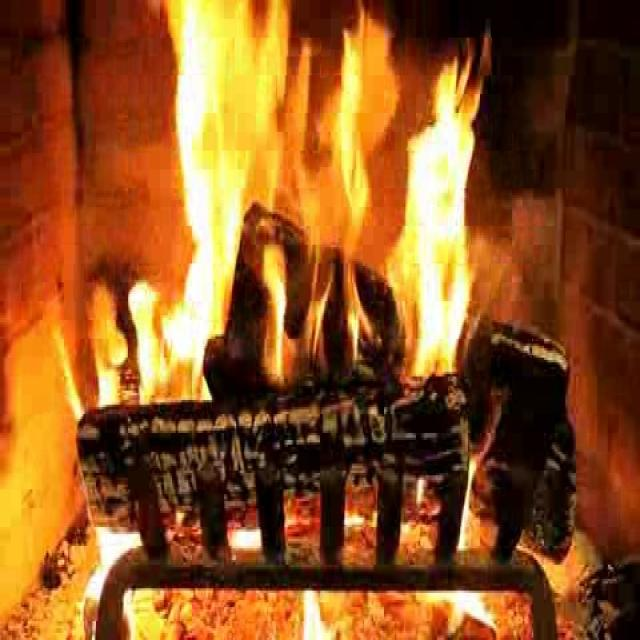fire: (142, 10, 486, 438)
